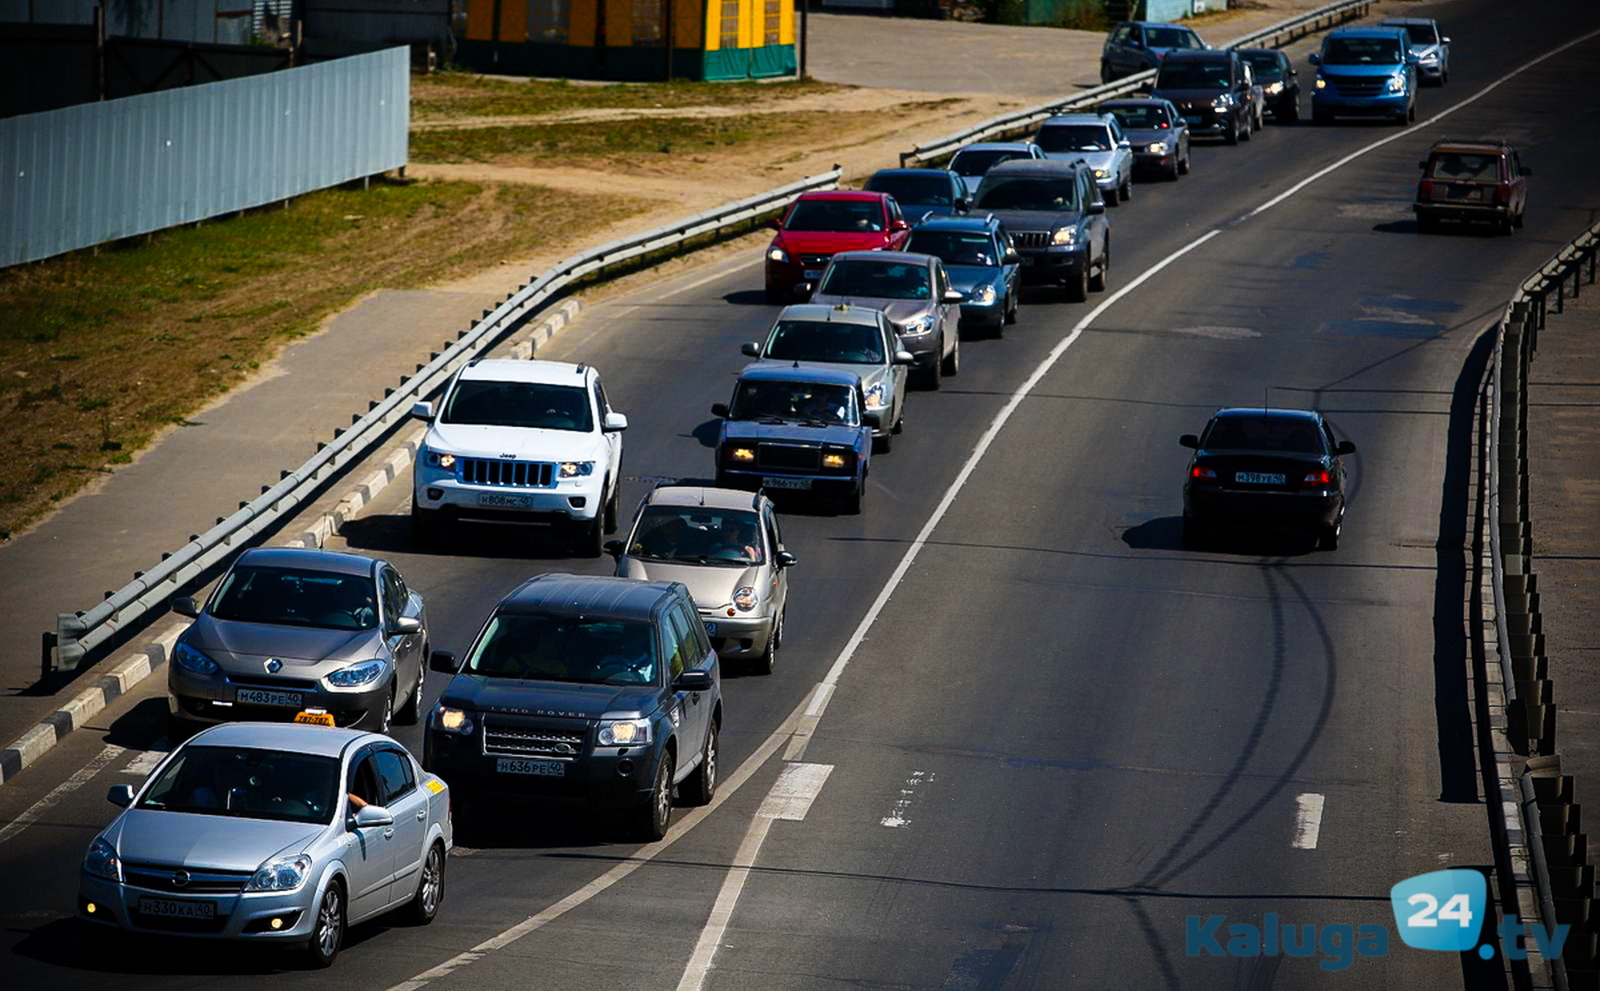Car: (80, 709, 453, 969), (419, 573, 725, 842), (167, 544, 432, 736), (410, 358, 630, 558), (601, 479, 800, 673), (1178, 403, 1358, 549), (741, 303, 914, 453), (711, 361, 880, 514), (797, 251, 963, 391), (954, 155, 1111, 302), (765, 189, 912, 301), (898, 210, 1025, 337), (1141, 47, 1258, 144), (1413, 139, 1531, 235), (1307, 25, 1421, 126), (1035, 112, 1135, 206), (1099, 96, 1192, 179), (1101, 21, 1216, 85), (862, 167, 973, 227), (947, 139, 1049, 200), (1376, 16, 1451, 87), (1233, 47, 1301, 120), (1243, 61, 1265, 128)
